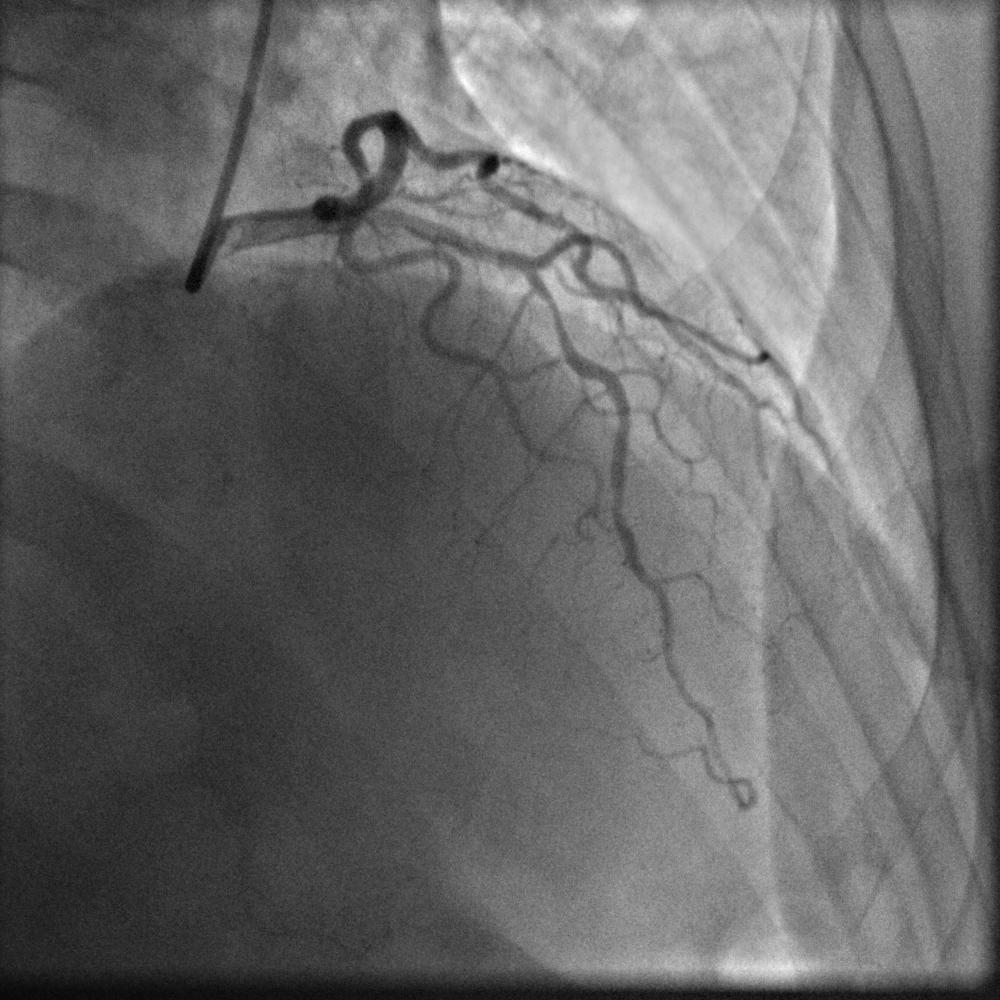Stenosis: (537, 287, 574, 353)
